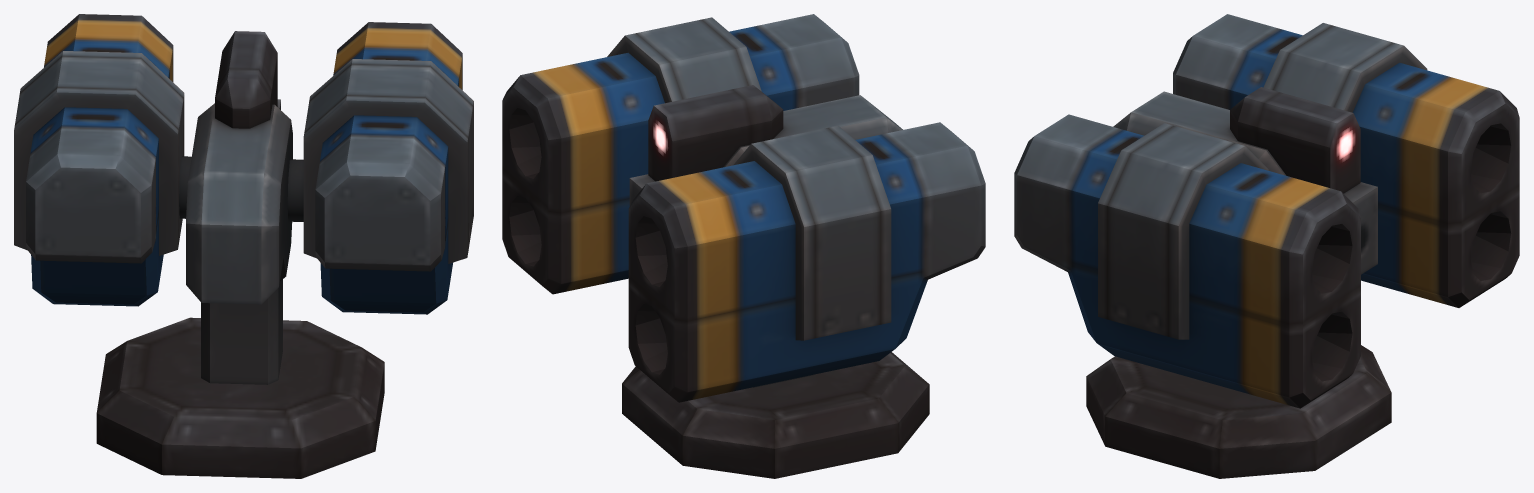
File: Tow_Rocket2_3.fbx
3 renders of one model, left to right at view 1: azimuth 30°, elevation 25°; view 2: azimuth 150°, elevation 25°; view 3: azimuth 270°, elevation 25°, orthographic.
Visible parts, largest first — view 1: Barrel, Base, Turret; view 2: Barrel, Base, Turret; view 3: Barrel, Base, Turret.
Part boxes in pixels (left/top/right/bottom): Barrel: left=14, top=14, right=473, bottom=314; Base: left=96, top=317, right=384, bottom=478; Turret: left=186, top=31, right=292, bottom=384; Barrel: left=502, top=14, right=985, bottom=402; Base: left=622, top=352, right=929, bottom=478; Turret: left=629, top=85, right=902, bottom=387; Barrel: left=1014, top=14, right=1519, bottom=408; Base: left=1086, top=345, right=1391, bottom=478; Turret: left=1113, top=87, right=1377, bottom=274.
Size of the model in its own units: 193 by 133 by 187.
Materials: 1 (1 with a texture image).
